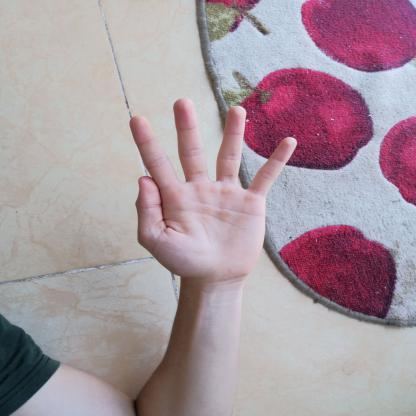SHEEN: (110, 89, 312, 293)
